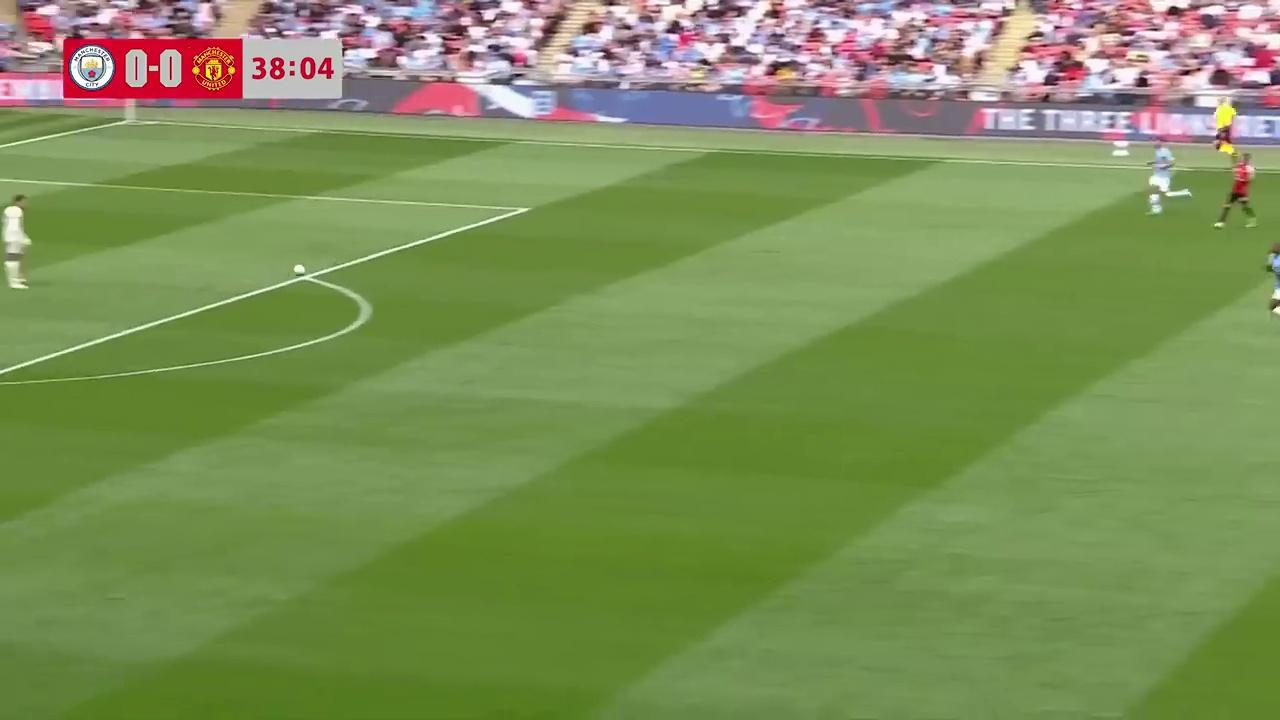player: (1212, 154, 1257, 228), (1213, 154, 1256, 228), (0, 195, 31, 290), (1147, 142, 1177, 215), (1264, 241, 1280, 319)
referee: (1212, 98, 1237, 161)
